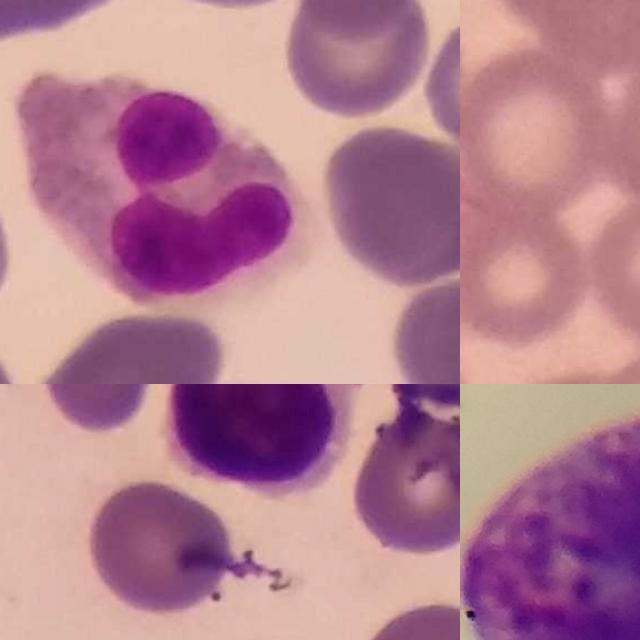Basophil: (460, 412, 640, 640)
Eosinophil: (13, 71, 321, 309)
Lymphocyte: (160, 384, 365, 500)
